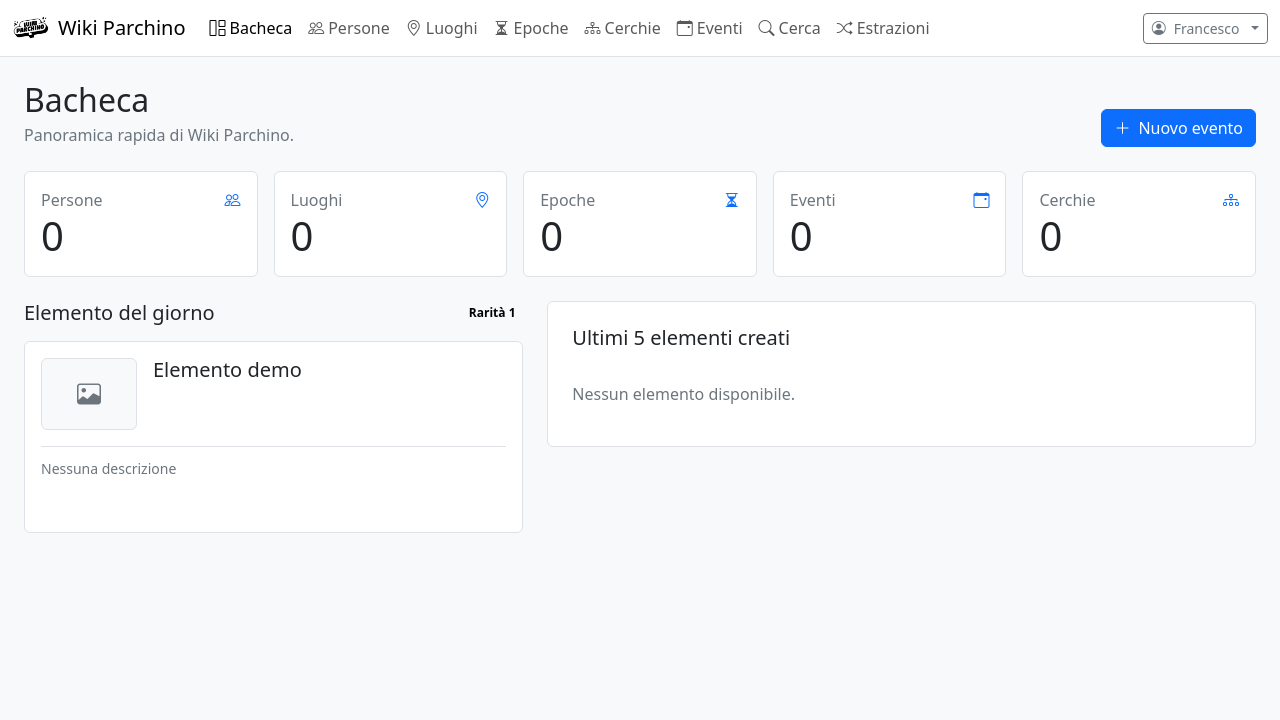
Test: App › renders the authenticated dashboard
expect the text "Wiki Parchino" is shown: met, box [58,13,186,43]
expect the text "Elemento demo" is shown: met, box [153,358,302,383]
Click the button "Francesco" at (1205, 28), box [1143,12,1268,44]
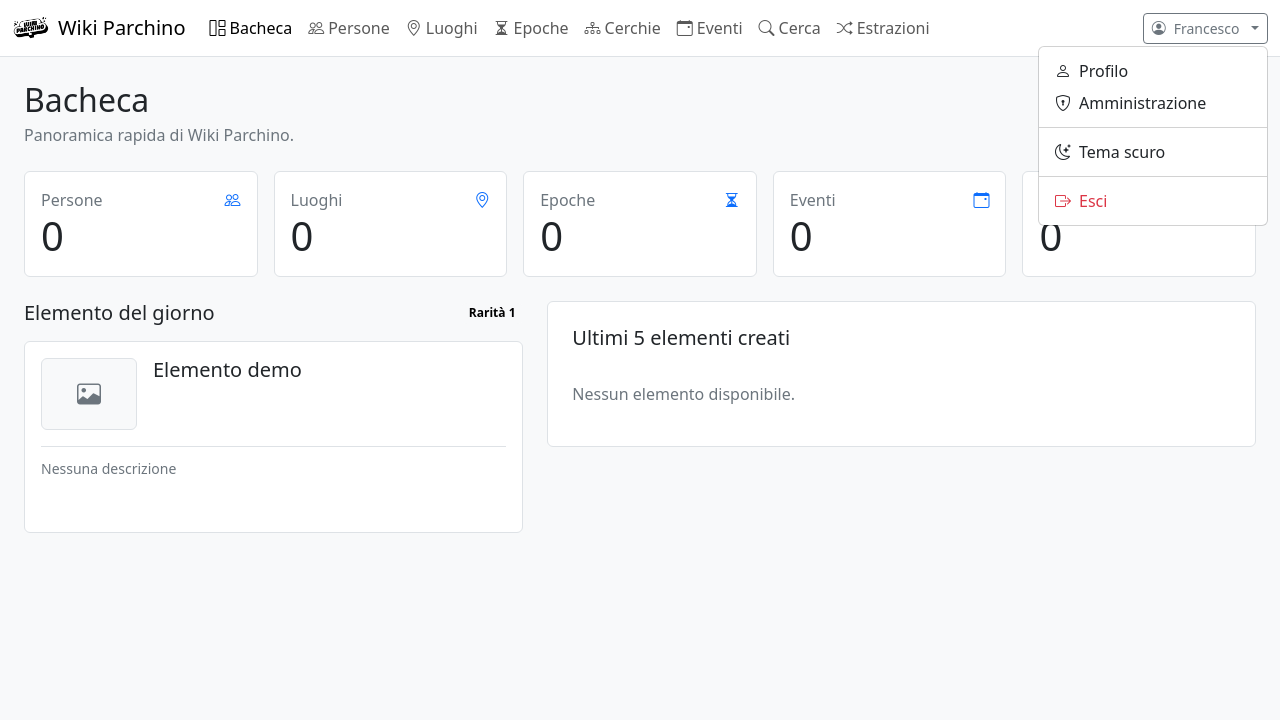
expect the button "Esci" is shown: met, box [1039,184,1267,216]
Click the button with aria-label "Attiva tema scuro" at (1153, 152), box [1039,136,1267,168]
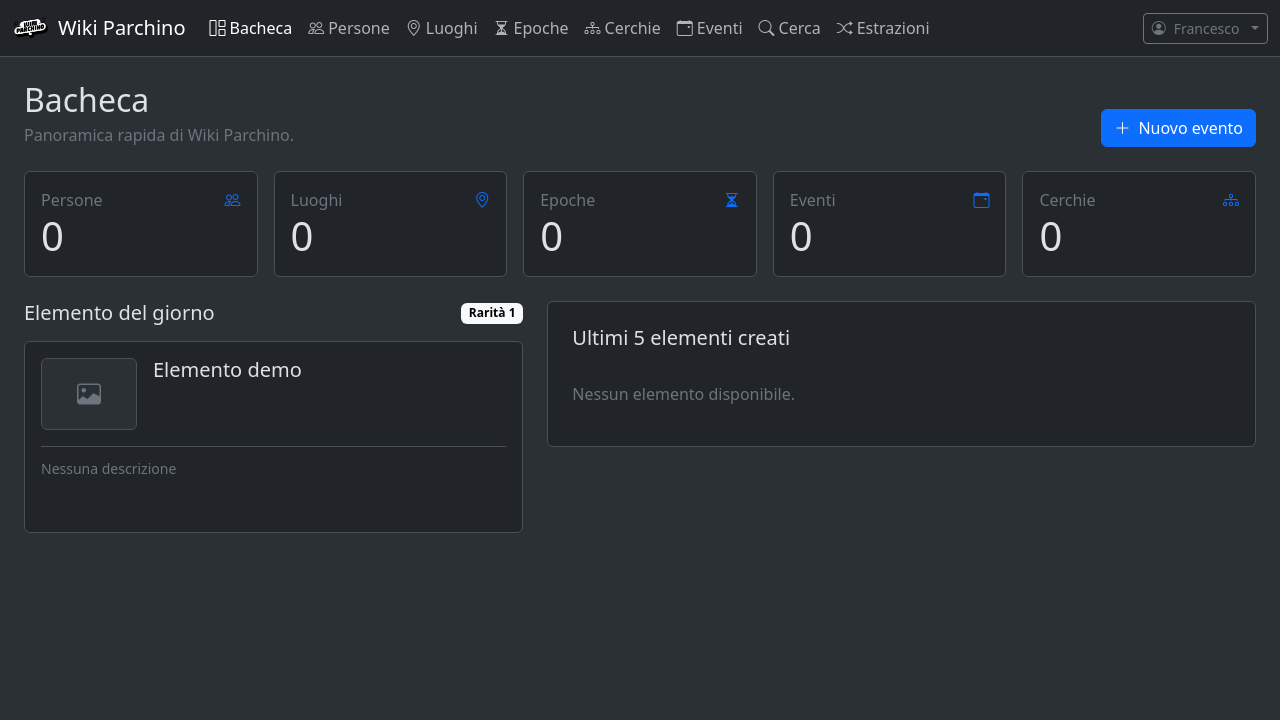
expect the button "Francesco" is collapsed: met, box [1143,12,1268,44]
